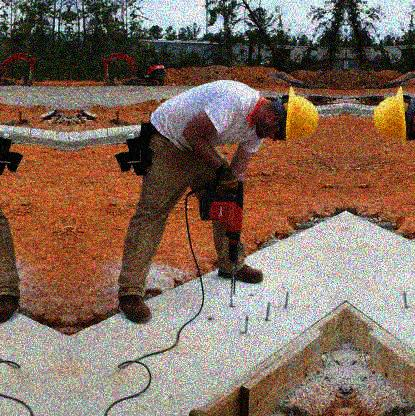helmet: (257, 87, 320, 146)
